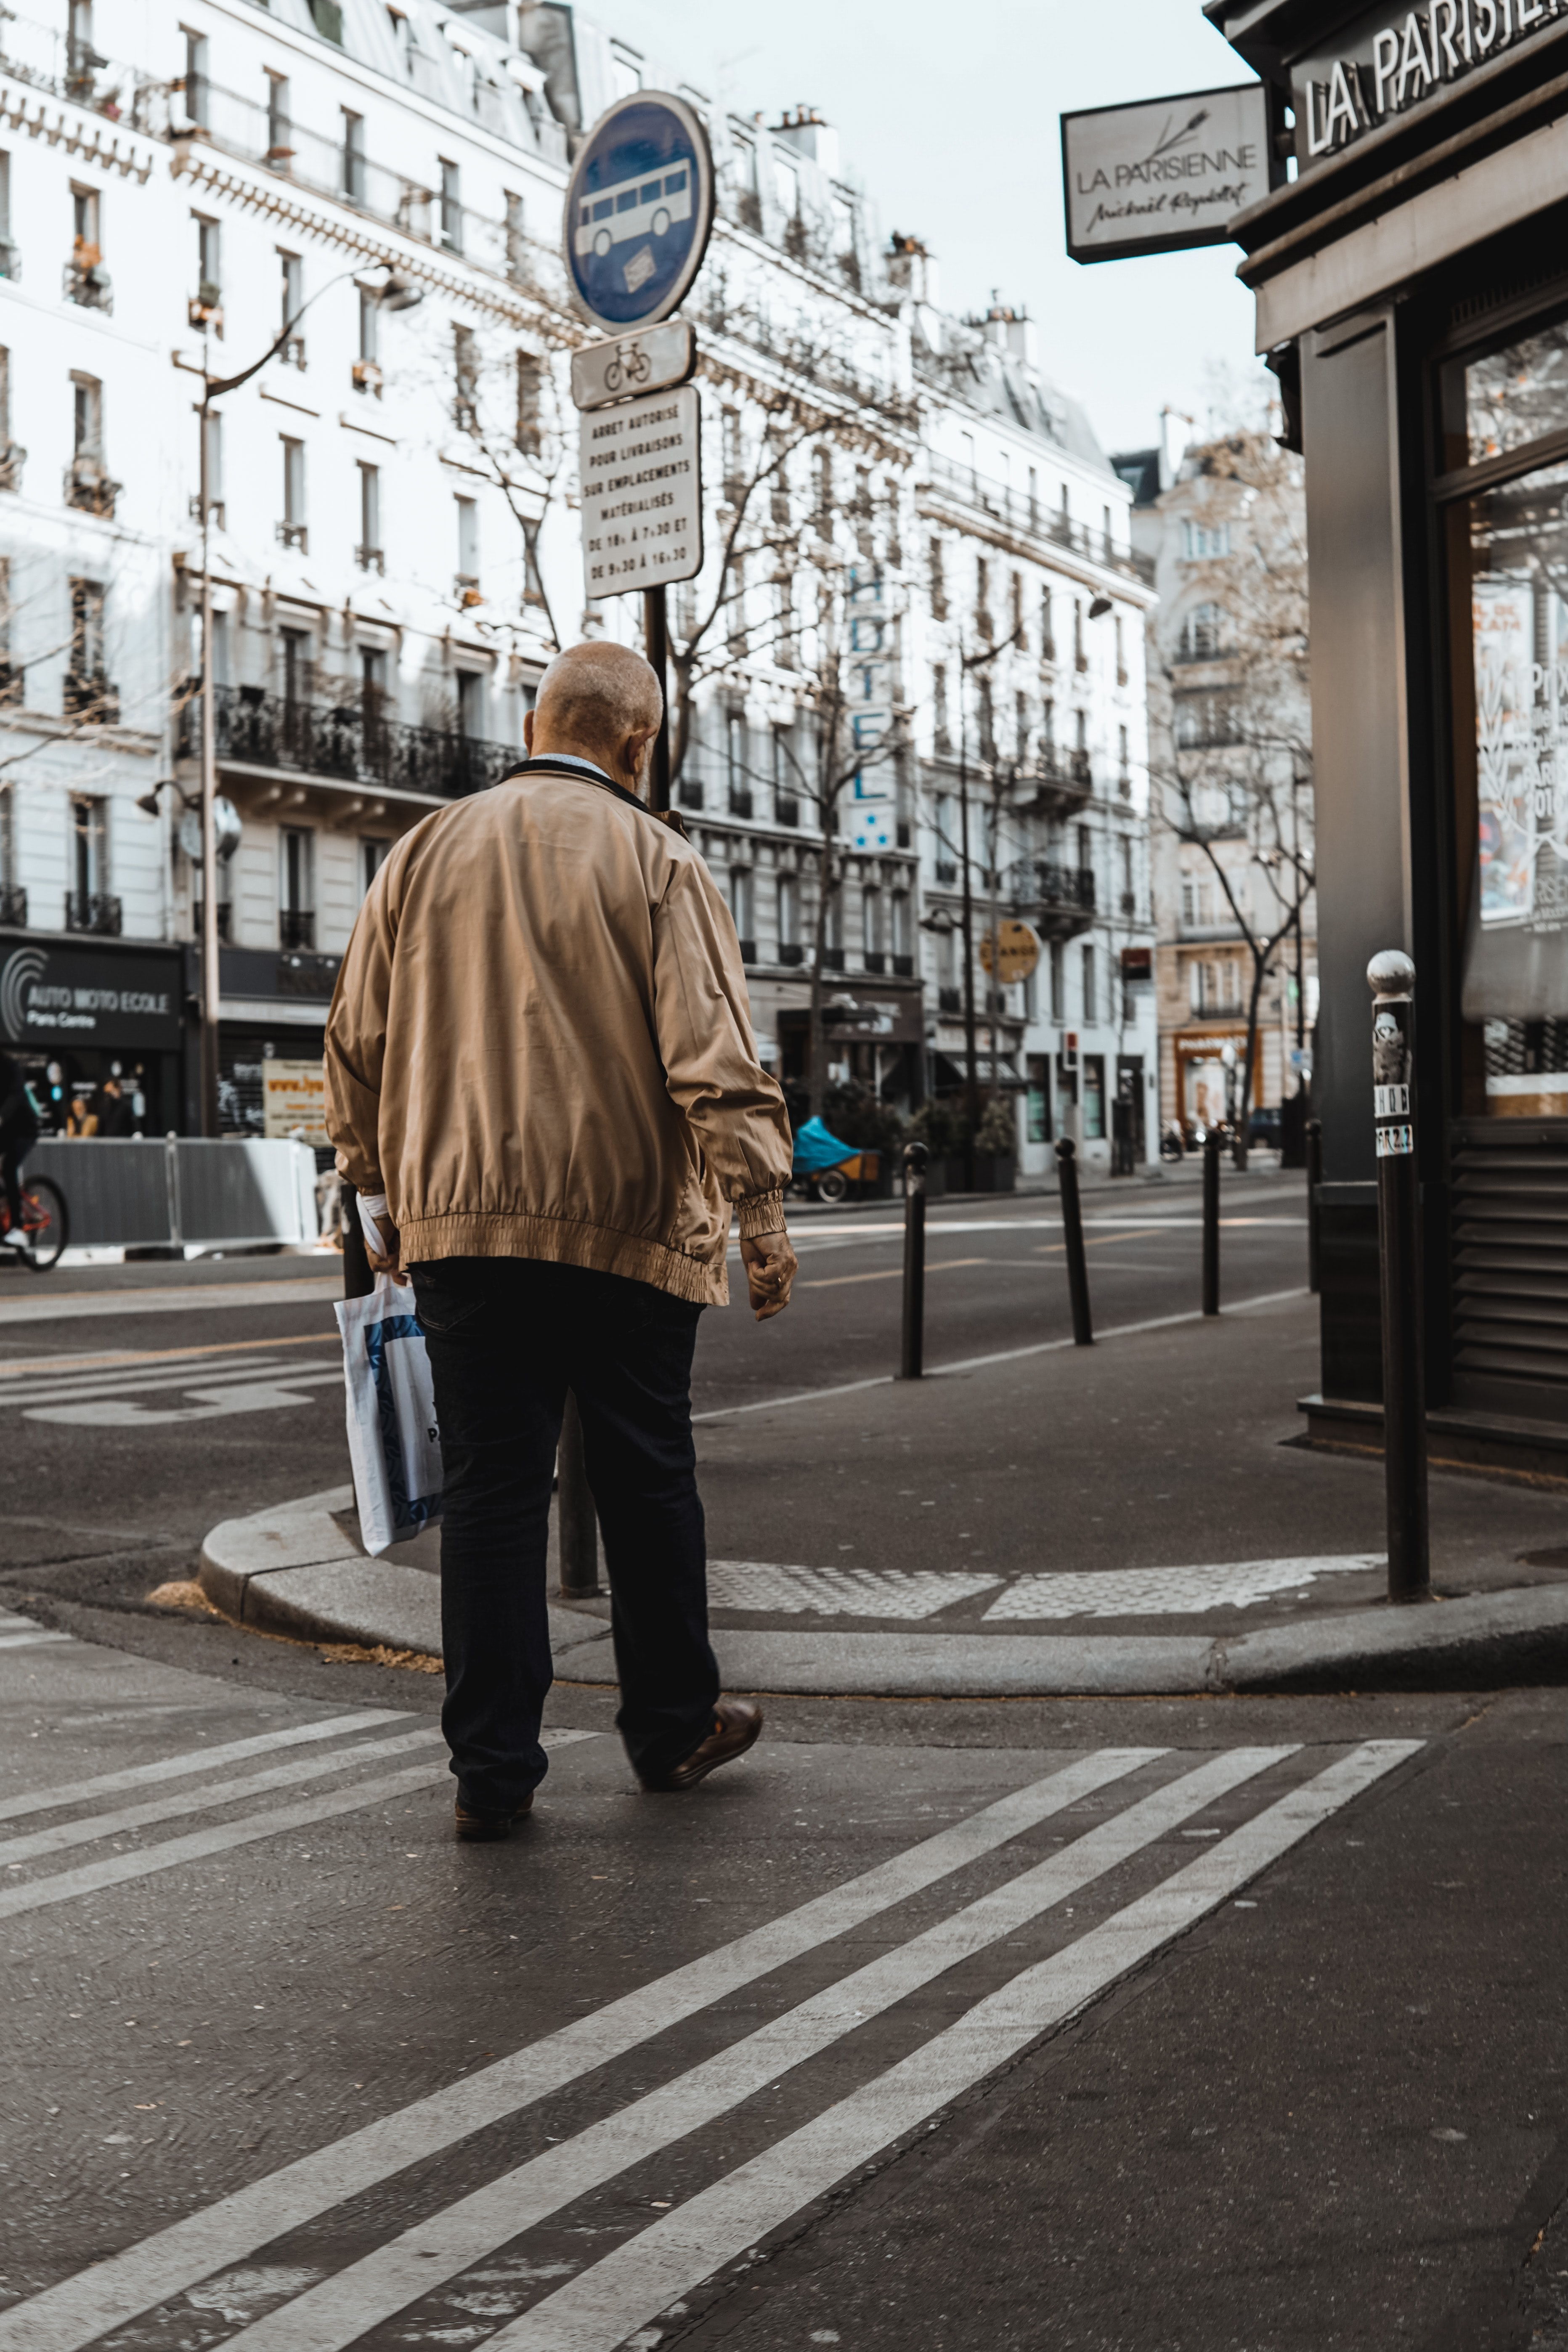person: (320, 640, 801, 1844)
